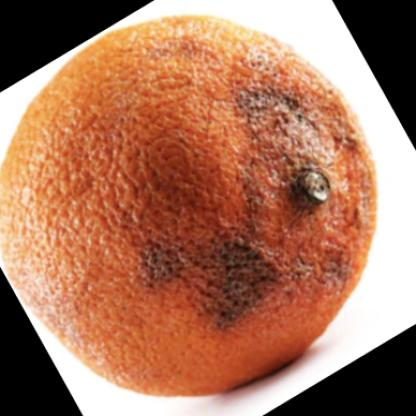rotten: (6, 16, 378, 396)
